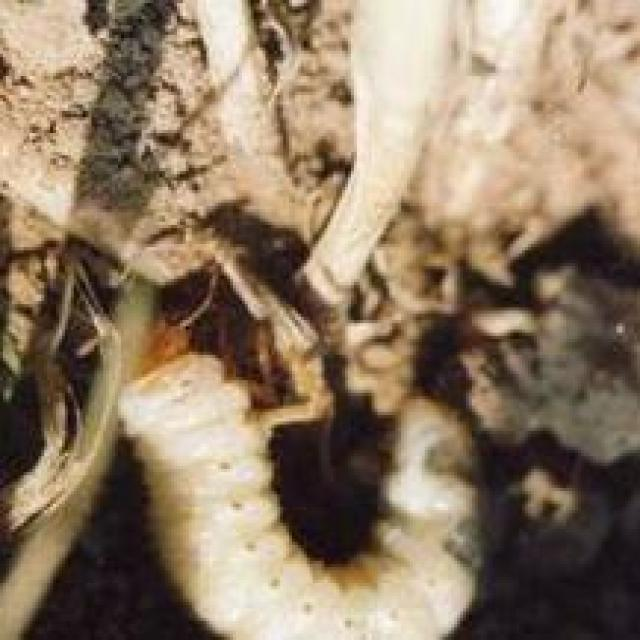Grub-Adult-: (113, 338, 492, 637)
